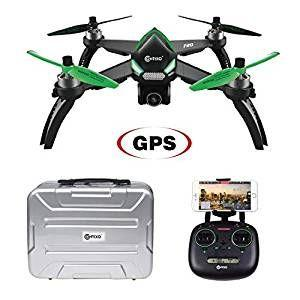drone: (23, 6, 285, 159)
